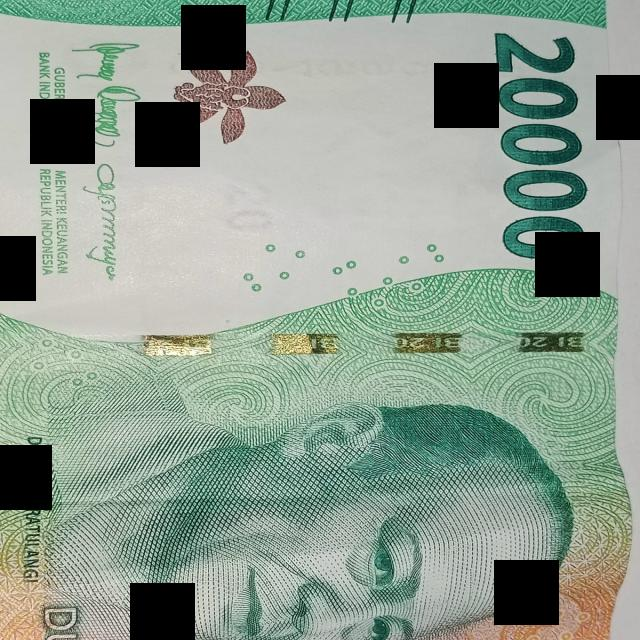dua puluh ribu rupiah: (2, 0, 628, 640)
